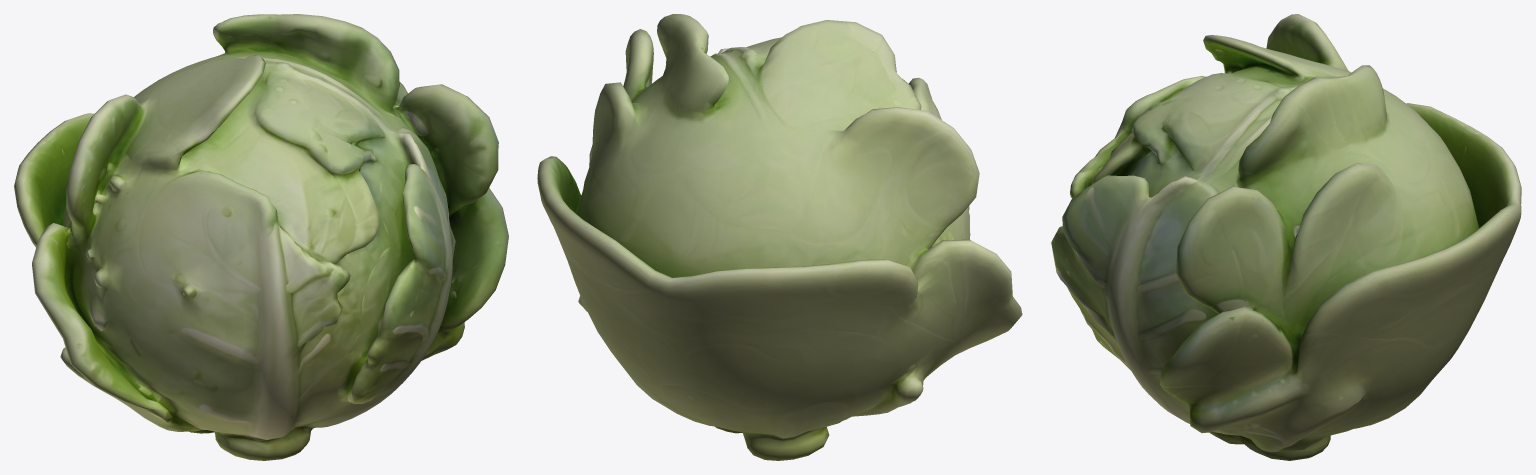
Rendered from lettuce.glb.
The picture shows the model from 3 angles, left to right: view 1: azimuth 30°, elevation 25°; view 2: azimuth 150°, elevation 25°; view 3: azimuth 270°, elevation 25°; orthographic projection. The views are drawn at different scales.
Visible parts, largest first — view 1: tripo_node_a8d0ab68; view 2: tripo_node_a8d0ab68; view 3: tripo_node_a8d0ab68.
Boxes of the visible parts, x1=… form: tripo_node_a8d0ab68: x1=14, y1=14, x2=508, y2=460; tripo_node_a8d0ab68: x1=537, y1=14, x2=1022, y2=460; tripo_node_a8d0ab68: x1=1051, y1=14, x2=1521, y2=460.
Bounding box in the file's own units: 99.77 × 86.32 × 94.78.
1 material, 1 textured.
